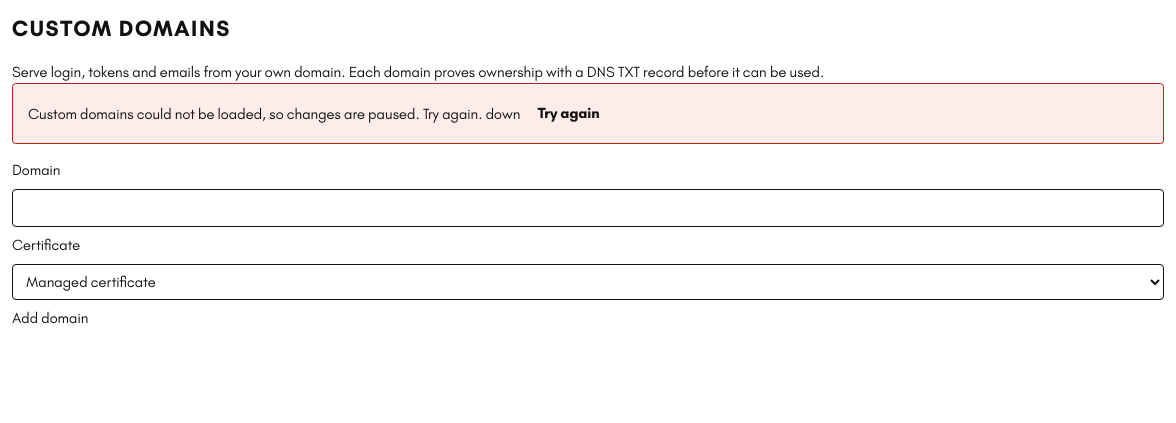
Scenario: custom domain races › locks writes while the list cannot be read
The image size is (1176, 423).
Expected: the submit button is disabled, x1=12 y1=307 x2=88 y2=330
Type "draft.acme.test" into the field with id "domain-name" at x=588, y=208, box x1=12 y1=188 x2=1164 y2=226
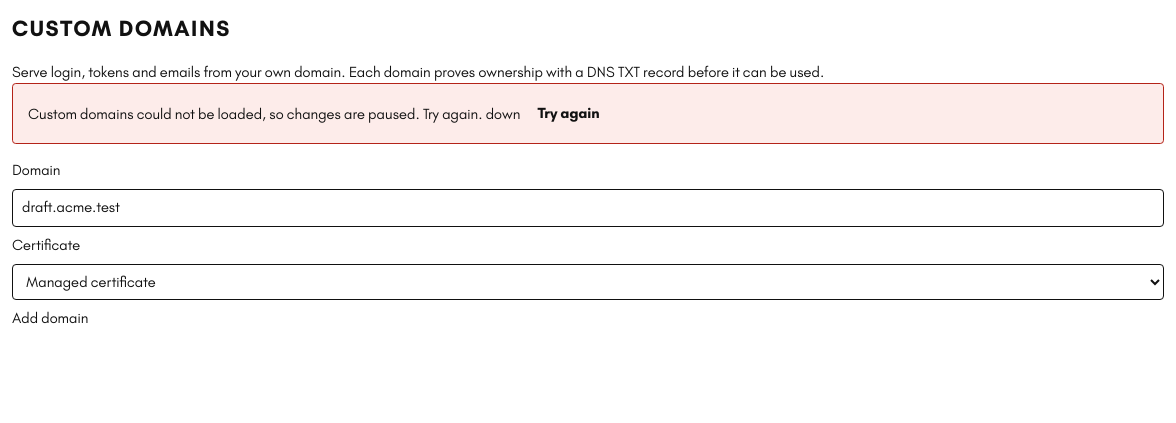
Click the button "Try again" at x=569, y=113, box x1=524 y1=96 x2=614 y2=131
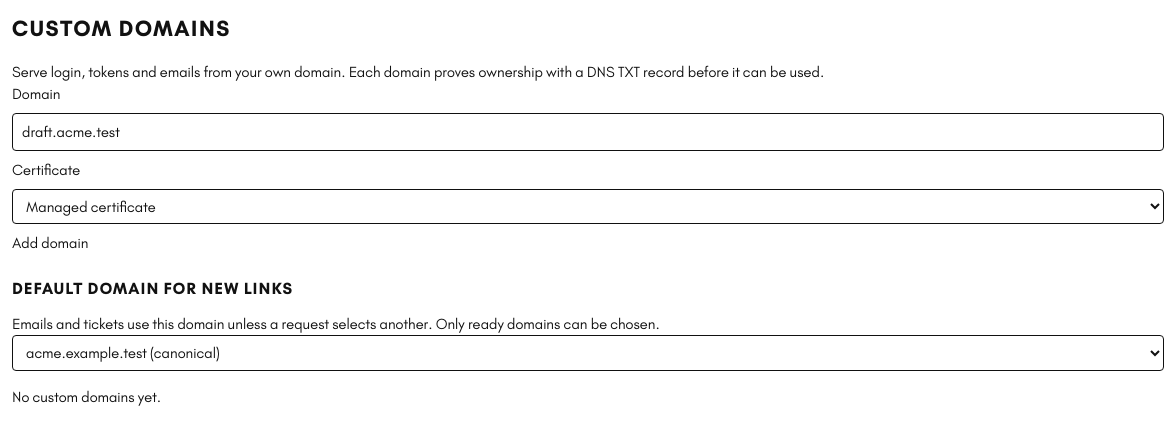
Now the submit button is enabled, box x1=12 y1=232 x2=88 y2=254
